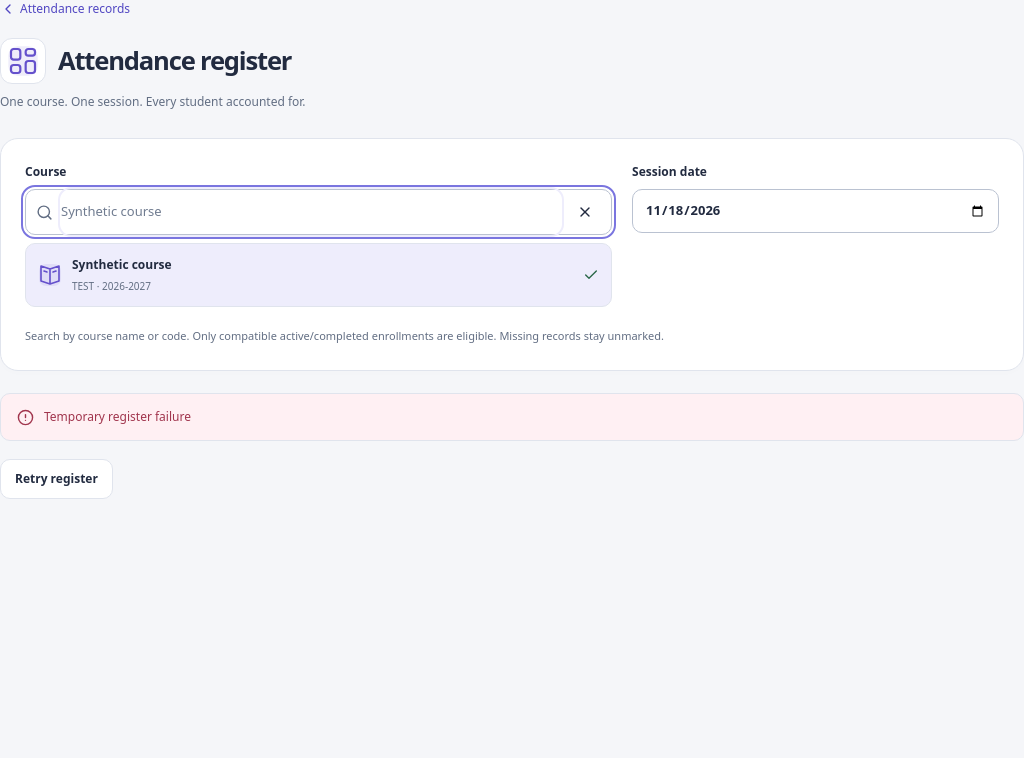
recovers from a register fetch failure with an explicit retry
Earlier steps of the test are not shown.
Expected: the message reads "Temporary register failure", [44,408,191,425]
Click the button "Retry register".
click(56, 479)  # box [0,459,113,499]
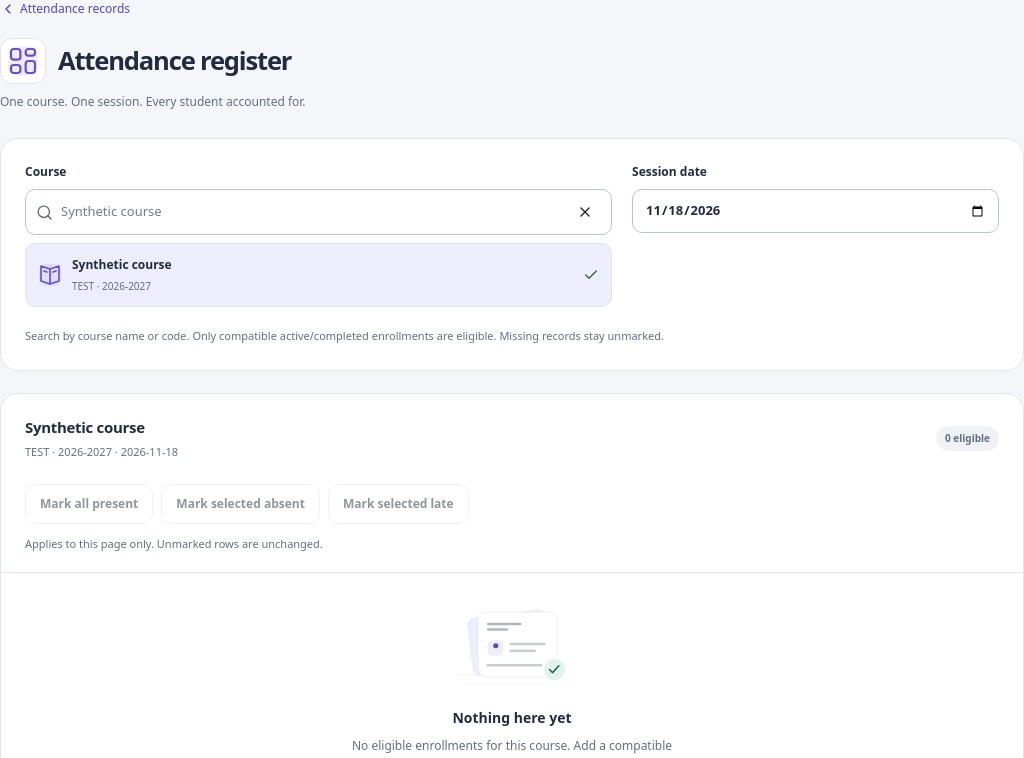
Expected: the text "0 eligible" is shown, [936,426,999,451]
